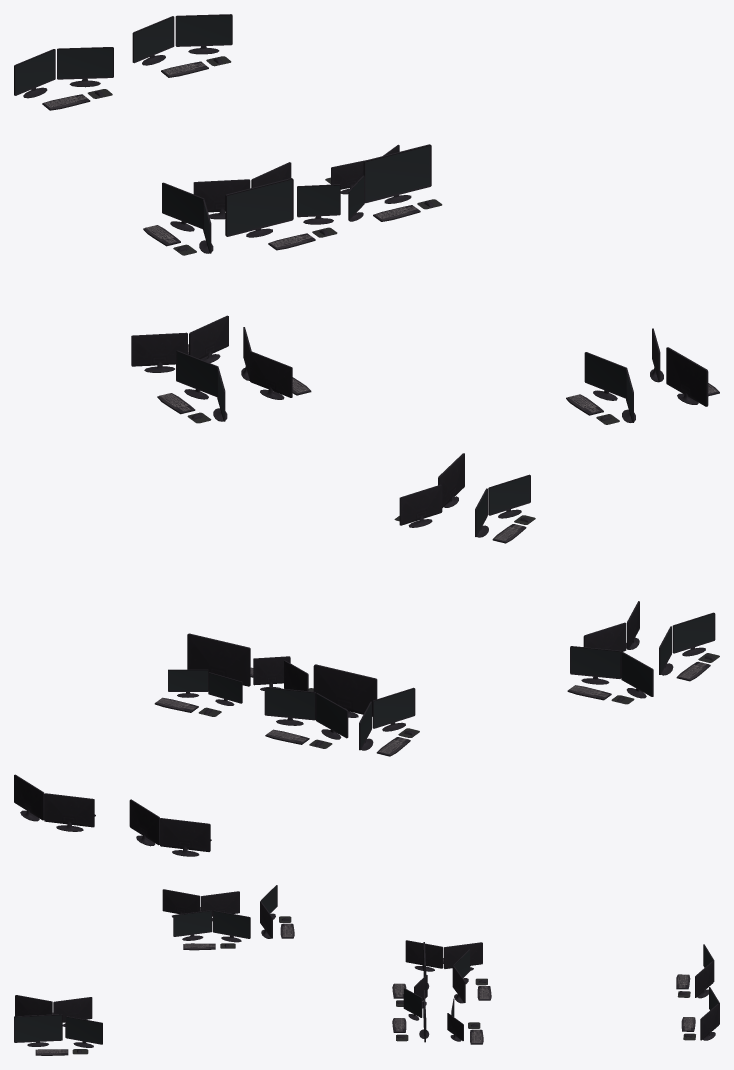
Rendered from monitors.glb.
3 views of the same model, one above another, from view 1: azimuth 30°, elevation 25°; view 2: azimuth 150°, elevation 25°; view 3: azimuth 270°, elevation 25° (orthographic). The views are drawn at different scales.
Parts seen in each view (by area): view 1: Computers; view 2: Computers; view 3: Computers.
Part boxes in pixels (x1,y1,x2,y2): Computers: (14, 14, 719, 424); Computers: (14, 453, 719, 856); Computers: (14, 885, 719, 1055).
Bounding box in the file's own units: 4.66 × 0.5472 × 9.34.
1 material, 1 textured.
